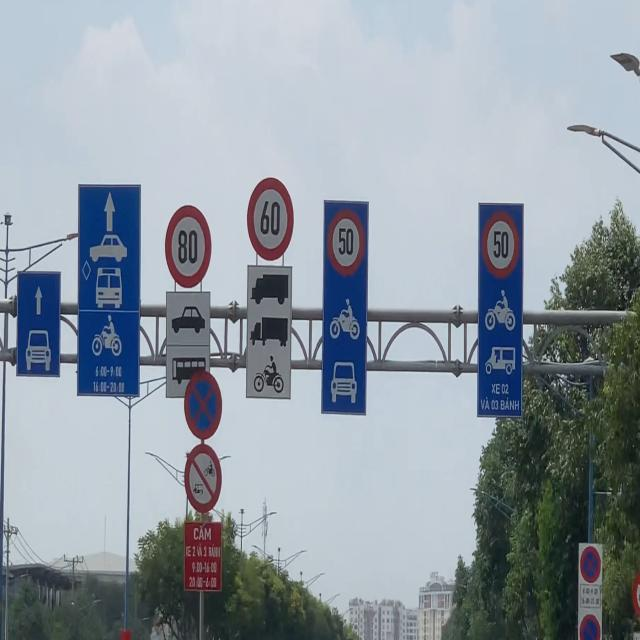Cam con lai: (182, 440, 223, 516)
Cam do: (579, 613, 601, 640)
Cam dung va do: (185, 371, 222, 440), (580, 546, 601, 583)
Toc do toi da: (247, 177, 294, 261), (165, 205, 212, 288), (482, 210, 519, 279), (327, 209, 365, 276)
